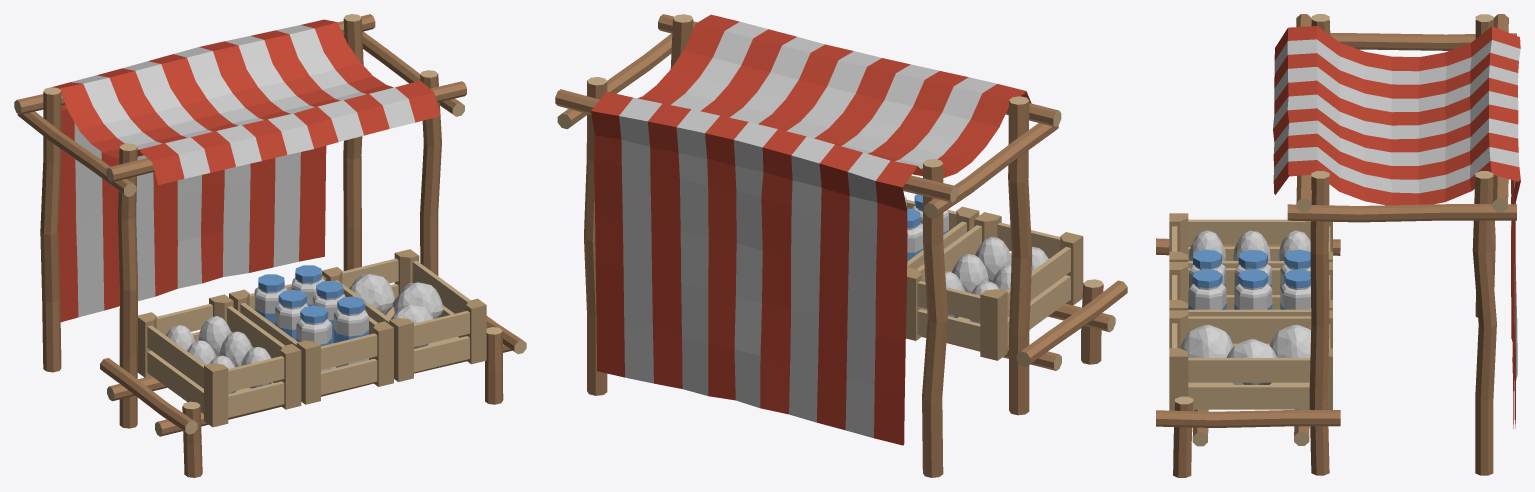
Rendered from Stall02.fbx.
3 views of the same model, side by side, from view 1: azimuth 30°, elevation 25°; view 2: azimuth 150°, elevation 25°; view 3: azimuth 270°, elevation 25° (orthographic). The views are drawn at different scales.
Visible parts, largest first — view 1: Stall02; view 2: Stall02; view 3: Stall02.
Boxes of the visible parts, bbox=[...] form: Stall02: bbox=[14, 14, 526, 477]; Stall02: bbox=[555, 14, 1127, 477]; Stall02: bbox=[1156, 14, 1520, 477].
Bounding box in the file's own units: 4 × 3.02 × 3.34.
